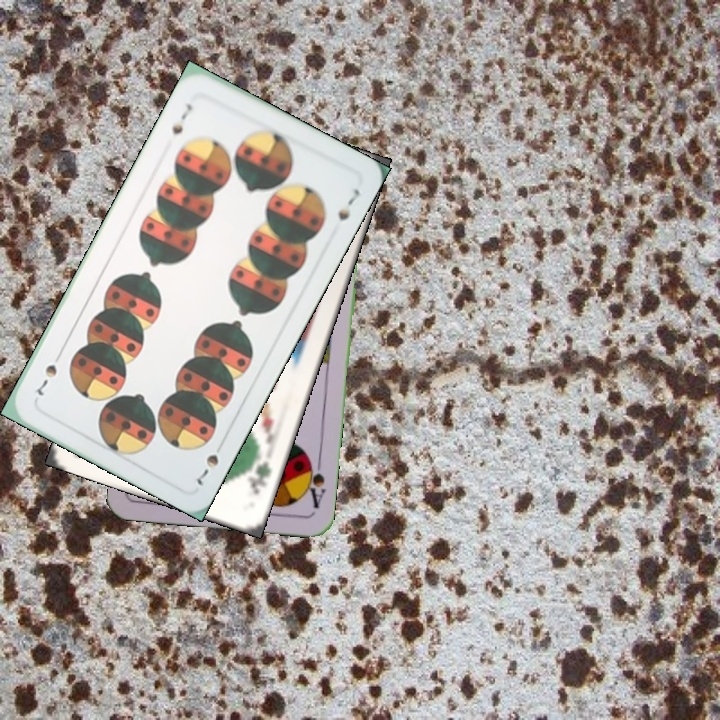GK: (243, 456, 274, 497)
S7: (192, 436, 228, 489), (167, 99, 195, 138)
SA: (301, 452, 329, 511)
